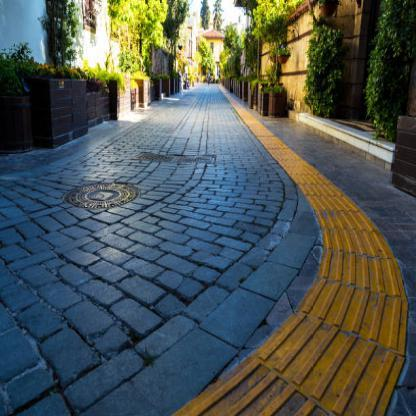podotacti: (179, 111, 405, 410)
